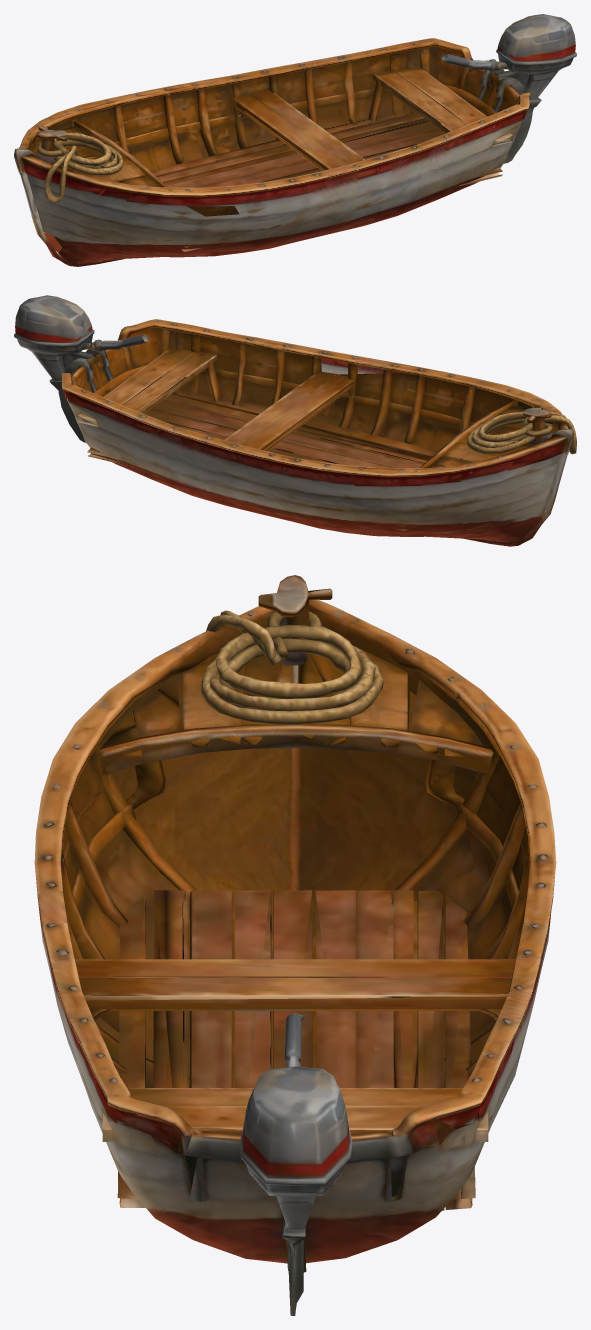
File: motorbat.glb
The picture shows the model from 3 angles, top to bottom: view 1: azimuth 30°, elevation 25°; view 2: azimuth 150°, elevation 25°; view 3: azimuth 270°, elevation 25°; orthographic projection. The views are drawn at different scales.
Visible parts, largest first — view 1: geometry_0; view 2: geometry_0; view 3: geometry_0.
Part boxes in pixels (bbox=[...]): geometry_0: bbox=[14, 14, 576, 266]; geometry_0: bbox=[14, 295, 576, 546]; geometry_0: bbox=[34, 575, 556, 1315].
Size of the model in its own units: 0.9507 by 0.2417 by 0.3892.
1 material, 1 textured.
